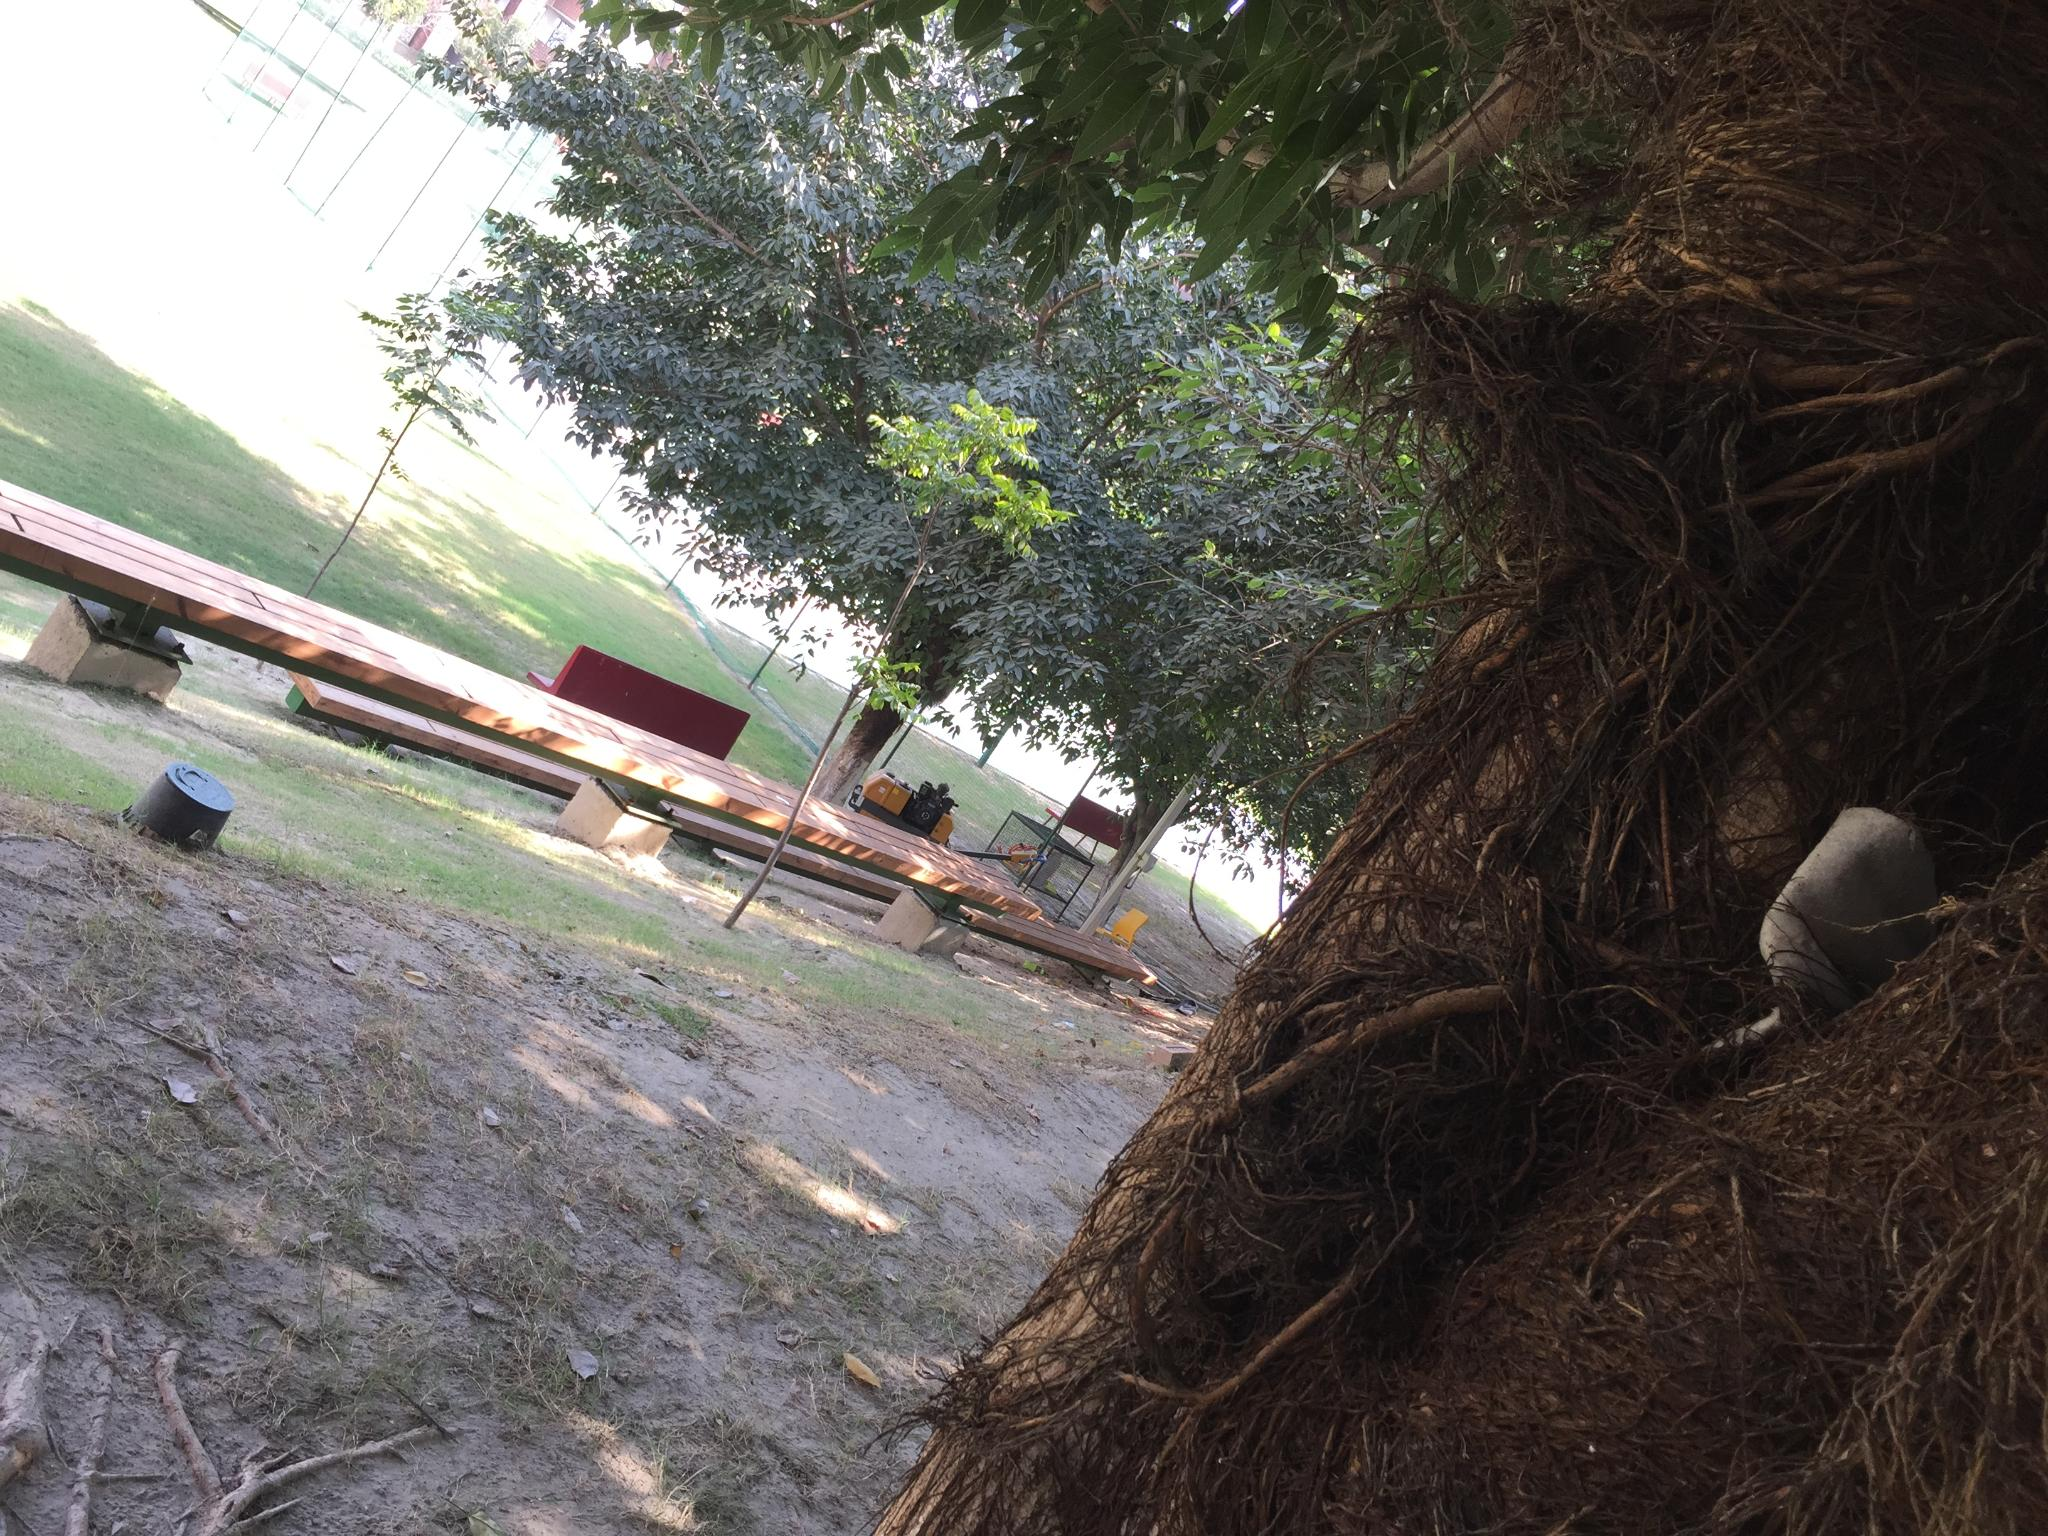chair: (1068, 910, 1159, 968)
